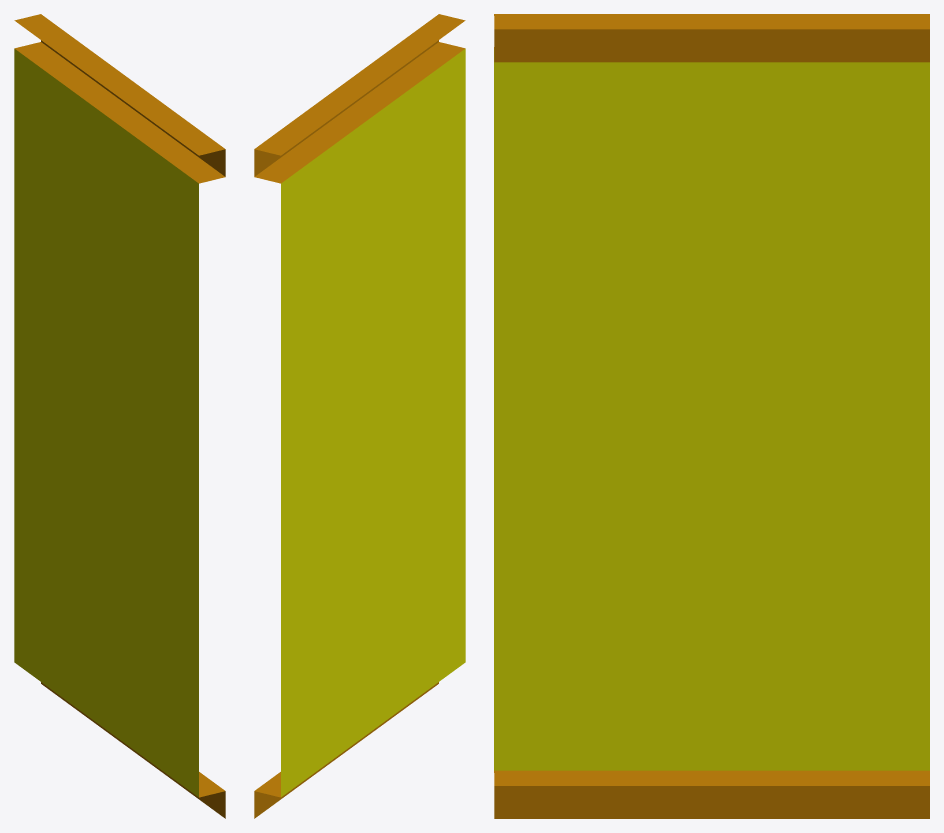
File: Mesh_Half_Wall_b01.fbx
3 views of the same model, side by side, from view 1: azimuth 30°, elevation 25°; view 2: azimuth 150°, elevation 25°; view 3: azimuth 270°, elevation 25° (orthographic). The views are drawn at different scales.
Parts seen in each view (by area): view 1: Mesh_Half_Wall_b01; view 2: Mesh_Half_Wall_b01; view 3: Mesh_Half_Wall_b01.
Boxes of the visible parts, bbox=[...] form: Mesh_Half_Wall_b01: bbox=[14, 14, 225, 818]; Mesh_Half_Wall_b01: bbox=[254, 14, 465, 818]; Mesh_Half_Wall_b01: bbox=[494, 14, 929, 818].
Size of the model in its own units: 1 by 24 by 12.
